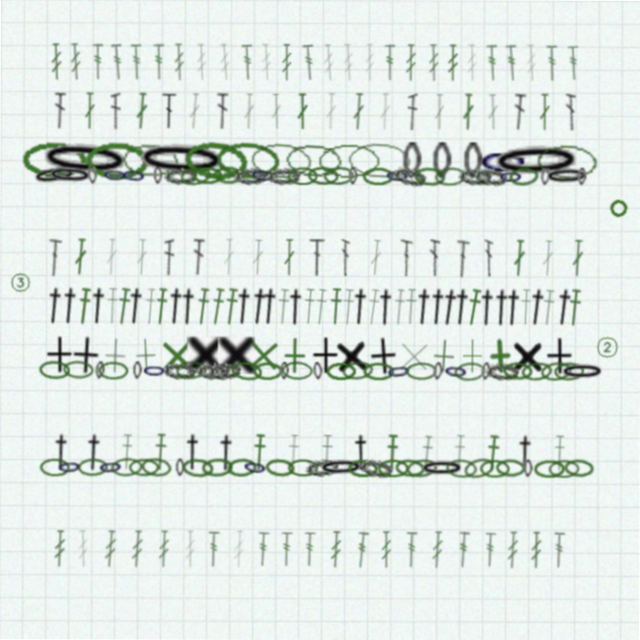chain: (37, 139, 132, 182), (134, 140, 228, 181), (489, 141, 583, 181), (182, 139, 248, 182), (248, 140, 314, 181), (215, 141, 279, 181), (346, 141, 411, 180), (282, 141, 345, 181), (534, 141, 598, 180), (21, 142, 86, 180), (84, 142, 148, 180), (316, 142, 380, 179), (119, 142, 181, 180), (477, 142, 529, 179), (31, 164, 78, 188), (47, 166, 92, 186), (391, 164, 427, 188), (544, 166, 589, 185), (319, 458, 364, 477), (463, 455, 496, 480), (560, 362, 605, 380), (420, 459, 465, 477), (305, 456, 340, 479), (207, 360, 242, 382), (359, 457, 394, 479), (230, 360, 263, 382), (406, 457, 439, 479), (179, 165, 211, 187), (402, 142, 421, 179), (432, 142, 451, 179), (463, 142, 482, 179), (540, 360, 573, 381), (163, 166, 197, 186), (233, 166, 267, 186), (266, 166, 300, 186), (473, 166, 507, 186), (196, 361, 230, 381), (342, 360, 374, 381), (521, 360, 553, 381), (508, 165, 539, 186), (141, 457, 172, 478), (413, 166, 445, 186), (434, 166, 466, 186), (454, 361, 486, 381), (182, 458, 214, 478), (446, 458, 478, 478), (265, 458, 296, 478), (395, 458, 426, 478), (111, 458, 143, 477), (458, 167, 491, 185), (163, 362, 196, 380), (486, 362, 519, 380), (307, 166, 338, 185), (323, 166, 354, 185), (39, 361, 70, 380), (63, 361, 94, 380), (176, 361, 207, 380), (282, 361, 313, 380), (202, 458, 233, 477), (227, 458, 258, 477), (564, 458, 595, 477), (213, 166, 243, 185), (503, 361, 533, 380), (554, 361, 584, 380), (496, 458, 526, 477), (249, 165, 276, 186), (242, 457, 269, 478), (362, 167, 393, 185), (98, 362, 129, 380), (363, 362, 394, 380), (406, 362, 437, 380), (129, 459, 160, 477), (288, 459, 319, 477), (378, 459, 409, 477), (534, 459, 565, 477), (549, 459, 580, 477), (120, 166, 147, 186), (192, 167, 222, 185), (287, 167, 317, 185), (253, 362, 283, 380), (326, 362, 356, 380), (40, 459, 70, 477), (78, 459, 108, 477), (348, 459, 378, 477), (480, 459, 510, 477), (386, 361, 412, 381), (443, 361, 469, 381), (384, 166, 410, 185), (57, 458, 83, 477), (98, 458, 124, 477), (102, 166, 127, 185), (498, 167, 523, 185), (142, 362, 167, 380), (87, 167, 97, 185), (540, 167, 550, 185), (95, 362, 105, 380), (313, 362, 323, 380), (433, 362, 443, 380), (481, 362, 491, 380), (153, 167, 162, 185), (348, 167, 357, 185), (577, 167, 586, 185), (133, 362, 142, 380), (280, 362, 289, 380), (176, 459, 185, 477), (524, 459, 533, 477)
double: (45, 239, 62, 277), (453, 239, 470, 277), (309, 239, 325, 276), (161, 93, 176, 130), (73, 239, 88, 276), (368, 239, 383, 276), (134, 93, 148, 130), (187, 93, 201, 130), (351, 93, 365, 130), (512, 93, 526, 130), (399, 239, 413, 276), (512, 239, 526, 276), (53, 93, 66, 130), (242, 93, 255, 130), (269, 93, 282, 130), (324, 93, 337, 130), (378, 93, 391, 130), (461, 93, 474, 130), (486, 93, 499, 130), (105, 239, 118, 276), (135, 239, 148, 276), (192, 239, 205, 276), (222, 239, 235, 276), (251, 239, 264, 276), (541, 239, 554, 276), (571, 239, 584, 276), (83, 93, 95, 130), (216, 93, 228, 130), (296, 93, 308, 130), (433, 93, 445, 130), (538, 93, 550, 130), (283, 239, 295, 276), (428, 239, 440, 276), (110, 93, 120, 130), (407, 93, 417, 130), (565, 93, 575, 130), (164, 239, 174, 276), (340, 239, 350, 276), (484, 239, 493, 276)
half_double: (436, 287, 463, 327), (246, 287, 272, 326), (524, 287, 550, 326), (551, 287, 577, 326), (42, 287, 67, 326), (57, 287, 82, 326), (123, 287, 148, 326), (163, 287, 188, 326), (231, 287, 256, 326), (257, 287, 282, 326), (411, 287, 436, 326), (425, 287, 450, 326), (449, 287, 474, 326), (86, 287, 110, 326), (348, 287, 372, 326), (176, 288, 200, 326), (475, 288, 499, 326), (501, 288, 525, 326), (82, 434, 106, 472), (284, 288, 307, 326), (374, 288, 397, 326), (490, 288, 513, 326), (50, 434, 73, 472), (215, 434, 238, 472), (514, 434, 537, 472), (182, 434, 204, 471), (351, 434, 372, 471), (464, 288, 484, 326), (114, 288, 133, 326), (208, 288, 227, 326), (75, 288, 93, 326), (194, 288, 212, 326), (222, 288, 240, 326), (364, 288, 382, 326), (153, 288, 170, 326), (275, 288, 292, 326), (312, 288, 329, 326), (391, 288, 408, 326), (540, 288, 557, 326), (566, 288, 583, 326), (419, 434, 436, 472), (485, 434, 502, 472), (142, 288, 158, 326), (340, 288, 356, 326), (301, 288, 317, 325), (328, 288, 344, 325), (403, 288, 419, 325), (119, 434, 135, 471), (153, 434, 169, 471), (252, 434, 268, 471), (286, 434, 302, 471), (452, 434, 468, 471), (105, 288, 120, 325), (518, 288, 533, 325), (320, 434, 335, 471), (385, 434, 400, 471), (552, 434, 567, 471)
noise: (595, 334, 619, 358), (9, 272, 32, 295), (608, 197, 629, 218)
single: (244, 336, 283, 375), (424, 336, 463, 375), (481, 336, 520, 375), (96, 337, 134, 375), (127, 337, 165, 375), (158, 337, 196, 375), (395, 337, 433, 375), (334, 336, 370, 375), (187, 337, 224, 374), (218, 337, 255, 374), (276, 337, 313, 374), (454, 337, 491, 374), (511, 337, 545, 374), (368, 337, 398, 375), (71, 337, 100, 375), (45, 337, 73, 374), (311, 337, 339, 374), (545, 337, 573, 374)
treble: (109, 44, 125, 81), (355, 531, 370, 569), (301, 44, 316, 81), (68, 44, 82, 81), (129, 44, 143, 81), (217, 44, 231, 81), (240, 44, 254, 81), (321, 44, 335, 81), (504, 44, 518, 81), (566, 44, 580, 81), (104, 531, 118, 568), (131, 531, 145, 568), (257, 531, 271, 568), (431, 531, 445, 568), (457, 531, 471, 568), (484, 531, 498, 568), (553, 531, 567, 568), (49, 44, 62, 81), (172, 44, 185, 81), (194, 44, 207, 81), (259, 44, 272, 81), (341, 44, 354, 81), (485, 44, 498, 81), (524, 44, 537, 81), (545, 44, 558, 81), (54, 531, 67, 568), (77, 531, 90, 568), (158, 531, 171, 568), (208, 531, 221, 568), (233, 531, 246, 568), (281, 531, 294, 568), (304, 531, 317, 568), (330, 531, 343, 568), (406, 531, 419, 568), (507, 531, 520, 568), (91, 44, 103, 81), (152, 44, 164, 81), (280, 44, 292, 81), (363, 44, 375, 81), (383, 44, 395, 81), (404, 44, 416, 81), (427, 44, 439, 81), (446, 44, 458, 81), (465, 44, 477, 81), (185, 531, 197, 568), (381, 531, 393, 568), (531, 531, 543, 568)
